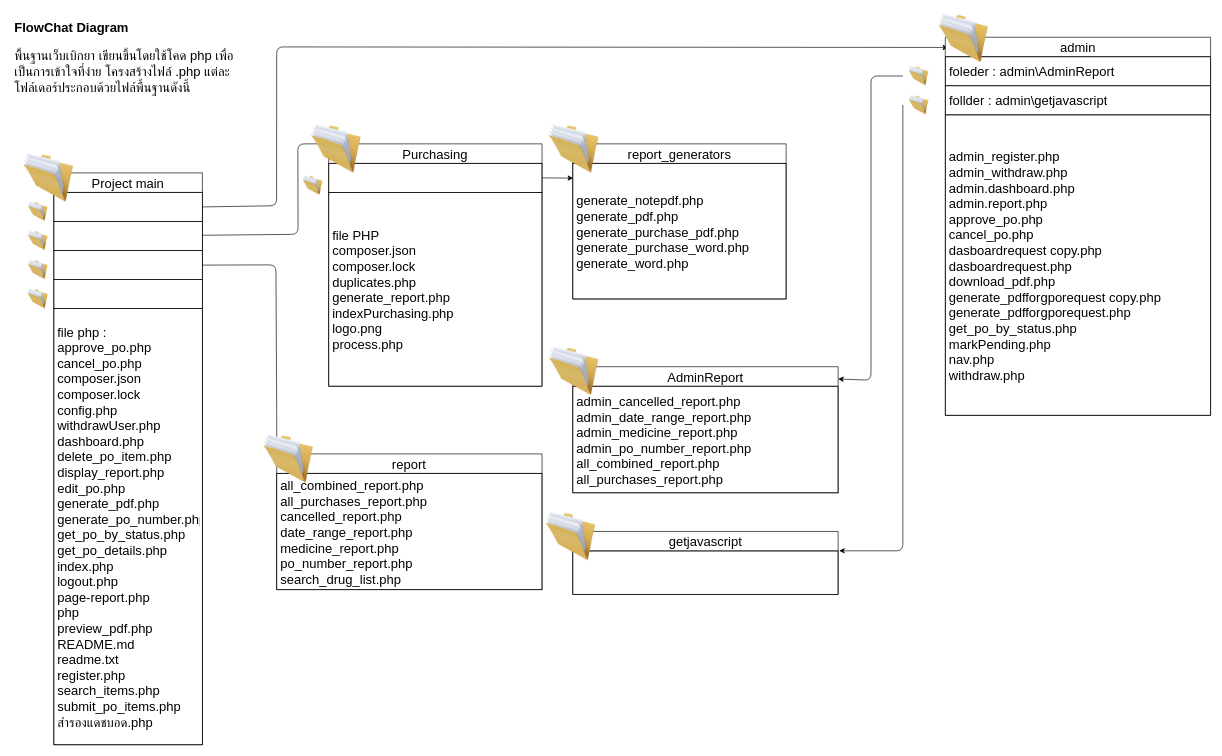
Image size: 1222x756. Some labels were removed from this diagram. The shapes that lost their labels are listed below. From the top down, each one's centre as x and y in pixels, then its label:
At point 435,177: "folder : report_generators".
At point 127,206: "folder : admin".
At point 127,236: "folder : Purchasing".
At point 127,265: "folder : report".
At point 127,294: "folder : vendor".
At point 705,572: "adminget_po_by_status.php".
